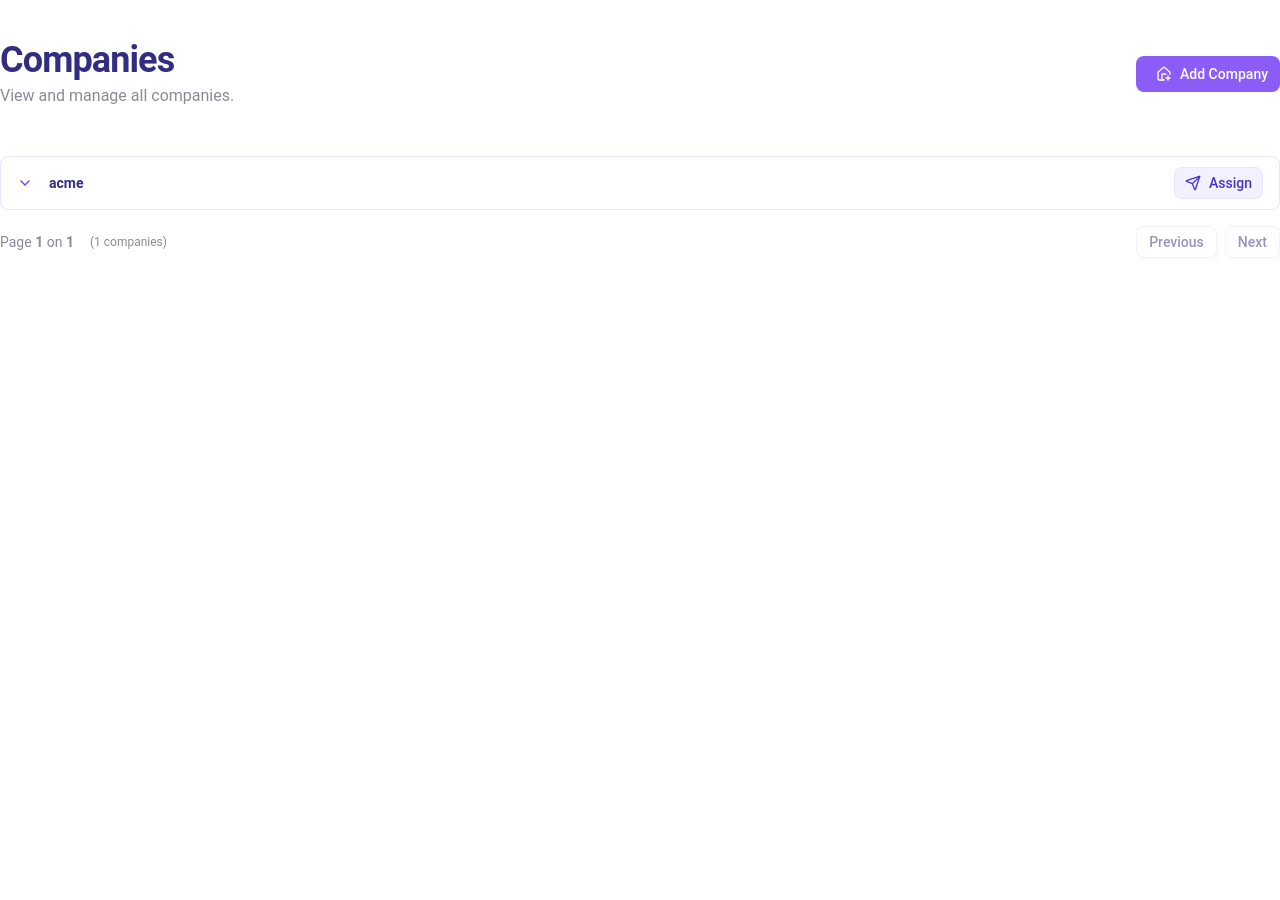
Test: CompaniesPage › Show Invite Manager button only if user is admin
Check: the heading "Companies" is shown, box 0,39 -> 174,81
Click the button "Assign": (1218, 183) 1174,167 -> 1263,199
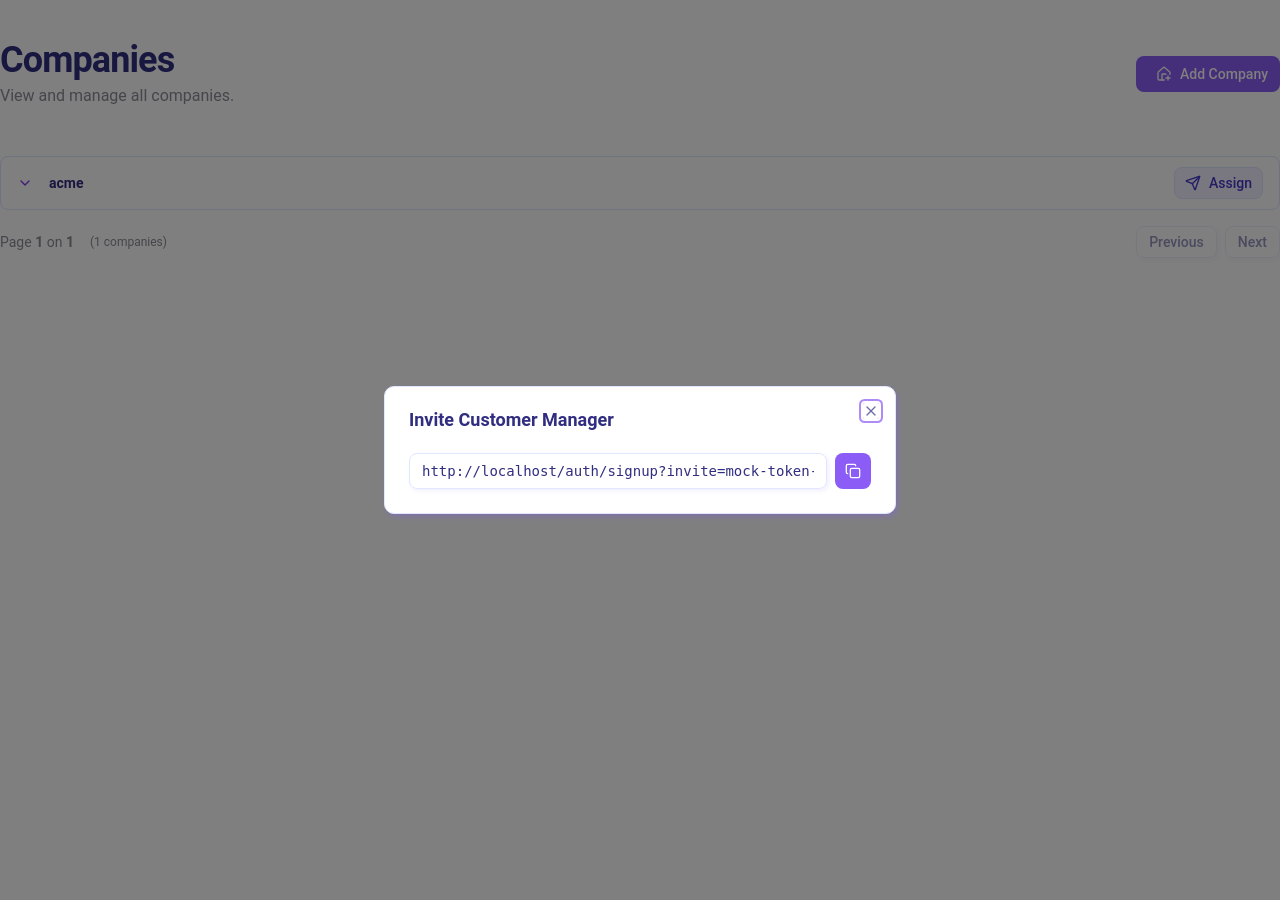
Check: the heading "Invite Customer Manager" is shown, box 409,409 -> 614,430
Check: the field showing "signup?invite=mock-token-123" is shown, box 409,453 -> 827,489
